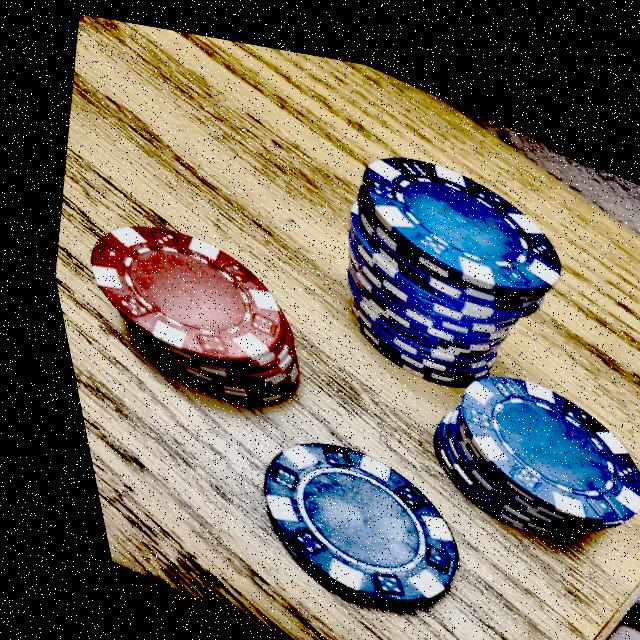Chip: (265, 88, 623, 442), (31, 158, 343, 461), (179, 370, 500, 640), (360, 287, 640, 593)
